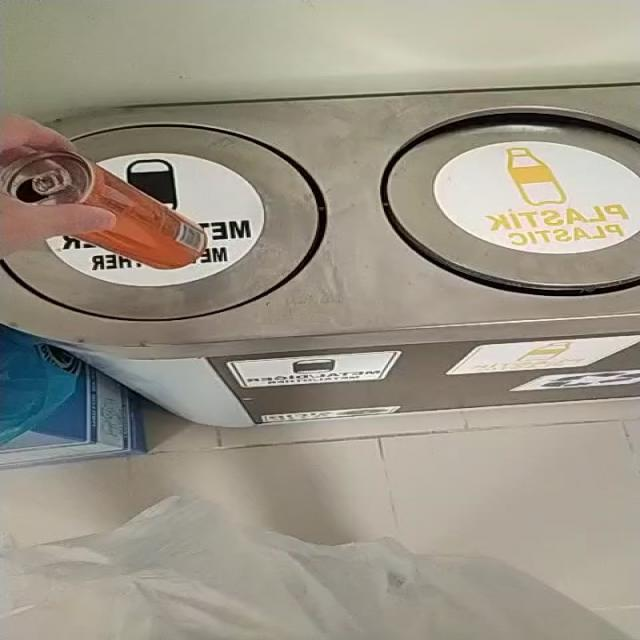bin: (3, 85, 640, 426)
metal: (0, 153, 205, 269)
